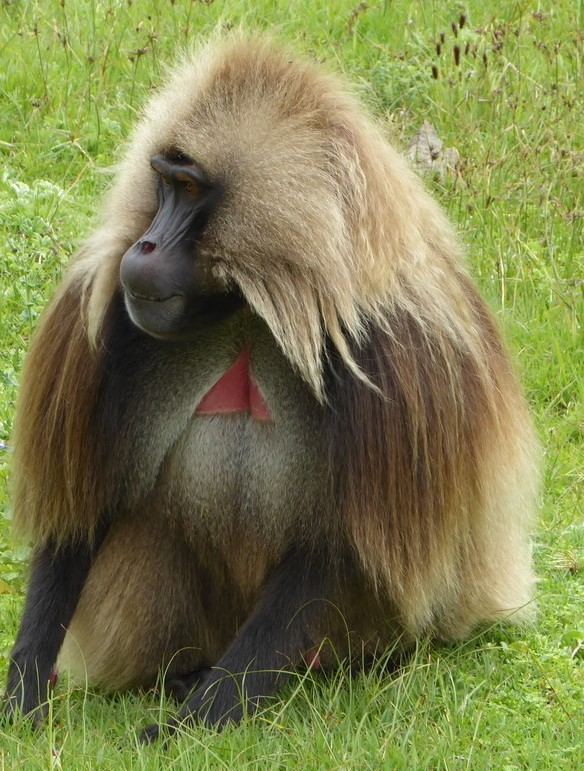Gelada: (58, 30, 524, 695)
